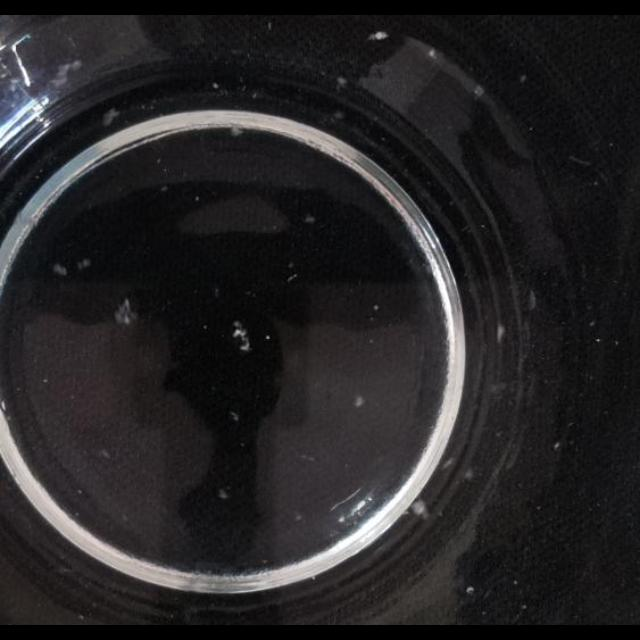Fibre: (114, 298, 138, 326), (232, 324, 252, 352), (102, 108, 120, 126), (369, 30, 388, 42), (230, 125, 244, 137)
microbeads: (53, 263, 67, 277), (77, 259, 91, 271), (335, 76, 347, 88), (218, 488, 230, 500), (354, 394, 364, 408), (286, 273, 298, 283), (464, 468, 474, 480), (100, 448, 110, 459), (304, 214, 316, 223), (230, 412, 240, 422), (553, 441, 561, 451), (520, 74, 528, 84), (294, 513, 302, 523), (160, 184, 170, 192), (372, 304, 380, 312), (211, 82, 219, 90), (588, 319, 596, 326), (41, 376, 48, 384), (194, 195, 200, 202), (596, 338, 602, 342)
